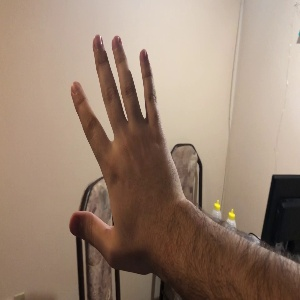hand: (70, 35, 180, 266)
